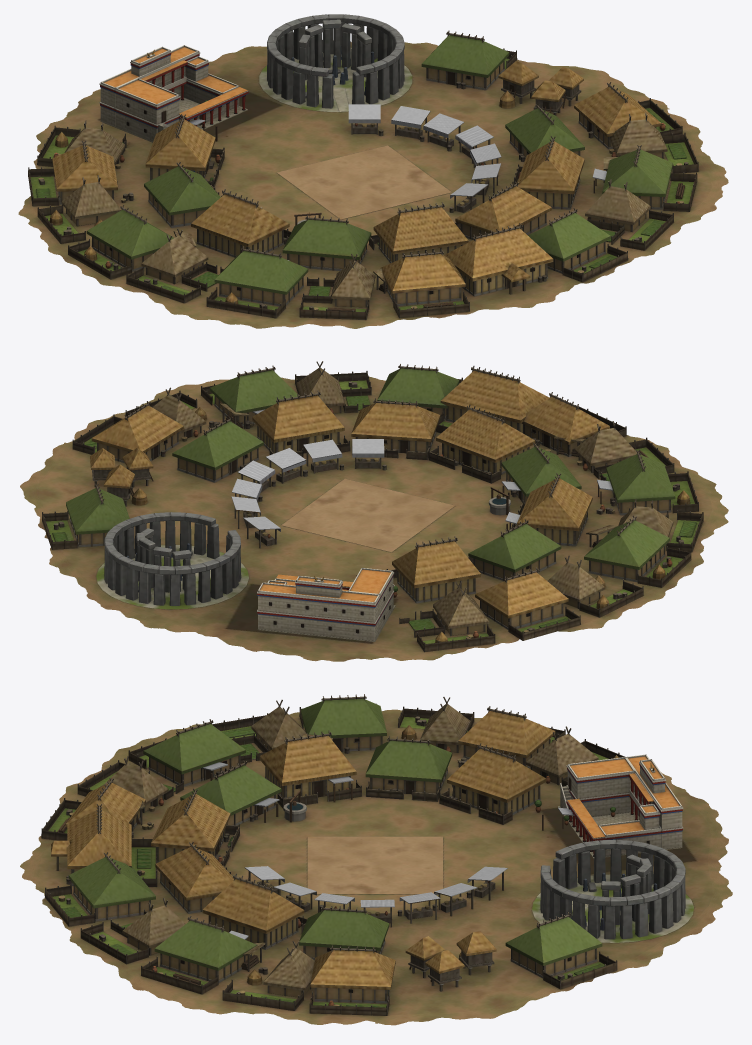
The model's file is bronze-town-big-b-europe-6df714ca.glb.
3 views of the same model, one above another, from view 1: azimuth 30°, elevation 25°; view 2: azimuth 150°, elevation 25°; view 3: azimuth 270°, elevation 25° (orthographic). The views are drawn at different scales.
Parts seen in each view (by area): view 1: LOD0; view 2: LOD0; view 3: LOD0.
Part boxes in pixels (bbox=[...]): LOD0: bbox=[18, 14, 728, 328]; LOD0: bbox=[20, 361, 728, 661]; LOD0: bbox=[20, 694, 732, 1025].
Size of what is drawn, in the model's own units: 7.93 by 0.6971 by 7.49.
Materials: 3 (3 with a texture image).
